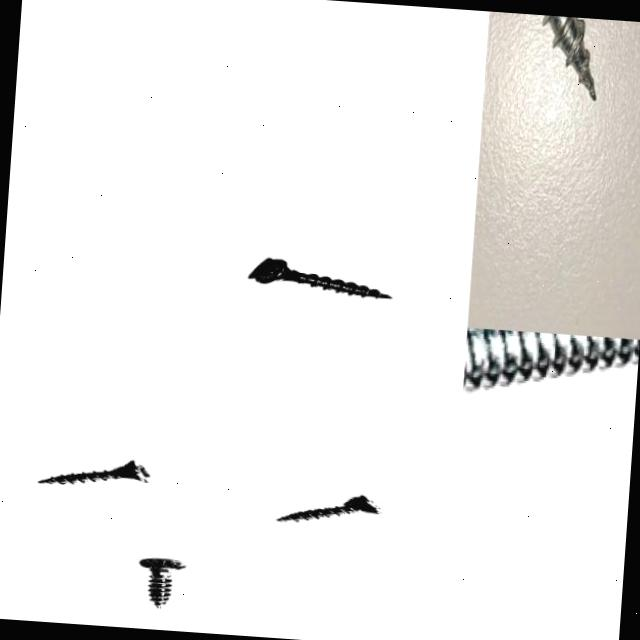Screw: (249, 258, 393, 298), (543, 15, 596, 102), (278, 495, 381, 522), (39, 460, 151, 484), (139, 558, 187, 608)
